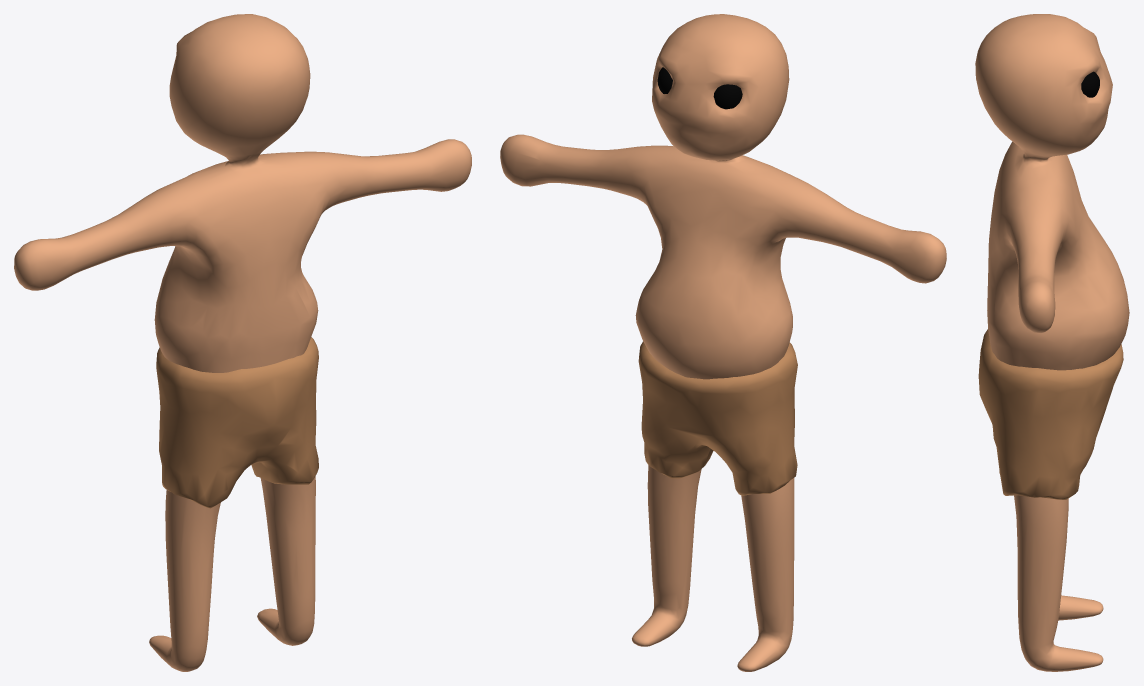
The model's file is villager-by-damori-EENwnqYqh4.glb.
3 views of the same model, side by side, from view 1: azimuth 30°, elevation 25°; view 2: azimuth 150°, elevation 25°; view 3: azimuth 270°, elevation 25° (orthographic). The views are drawn at different scales.
Visible parts, largest first — view 1: Cube.030; view 2: Cube.030; view 3: Cube.030.
Part boxes in pixels (left/top/right/bottom): Cube.030: left=14, top=14, right=471, bottom=671; Cube.030: left=500, top=14, right=946, bottom=671; Cube.030: left=975, top=14, right=1129, bottom=671.
Size of the model in its own units: 2.22 by 2.98 by 0.6683.
